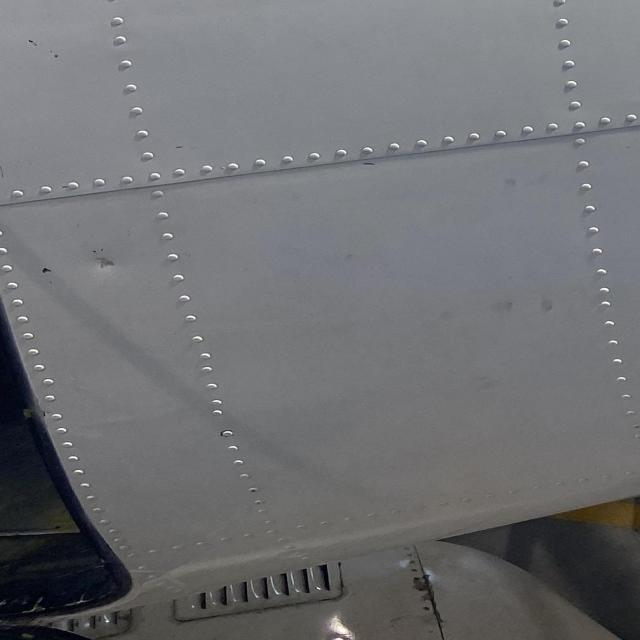Dent: (56, 238, 149, 290)
